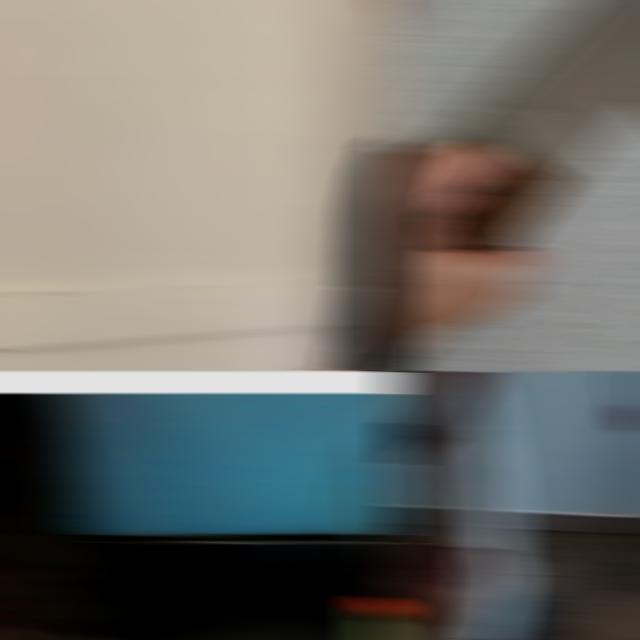Knife: (429, 0, 640, 251), (354, 441, 406, 640), (614, 371, 640, 413)
Knife_Handle: (386, 0, 640, 371), (297, 285, 370, 371), (608, 371, 640, 434)
